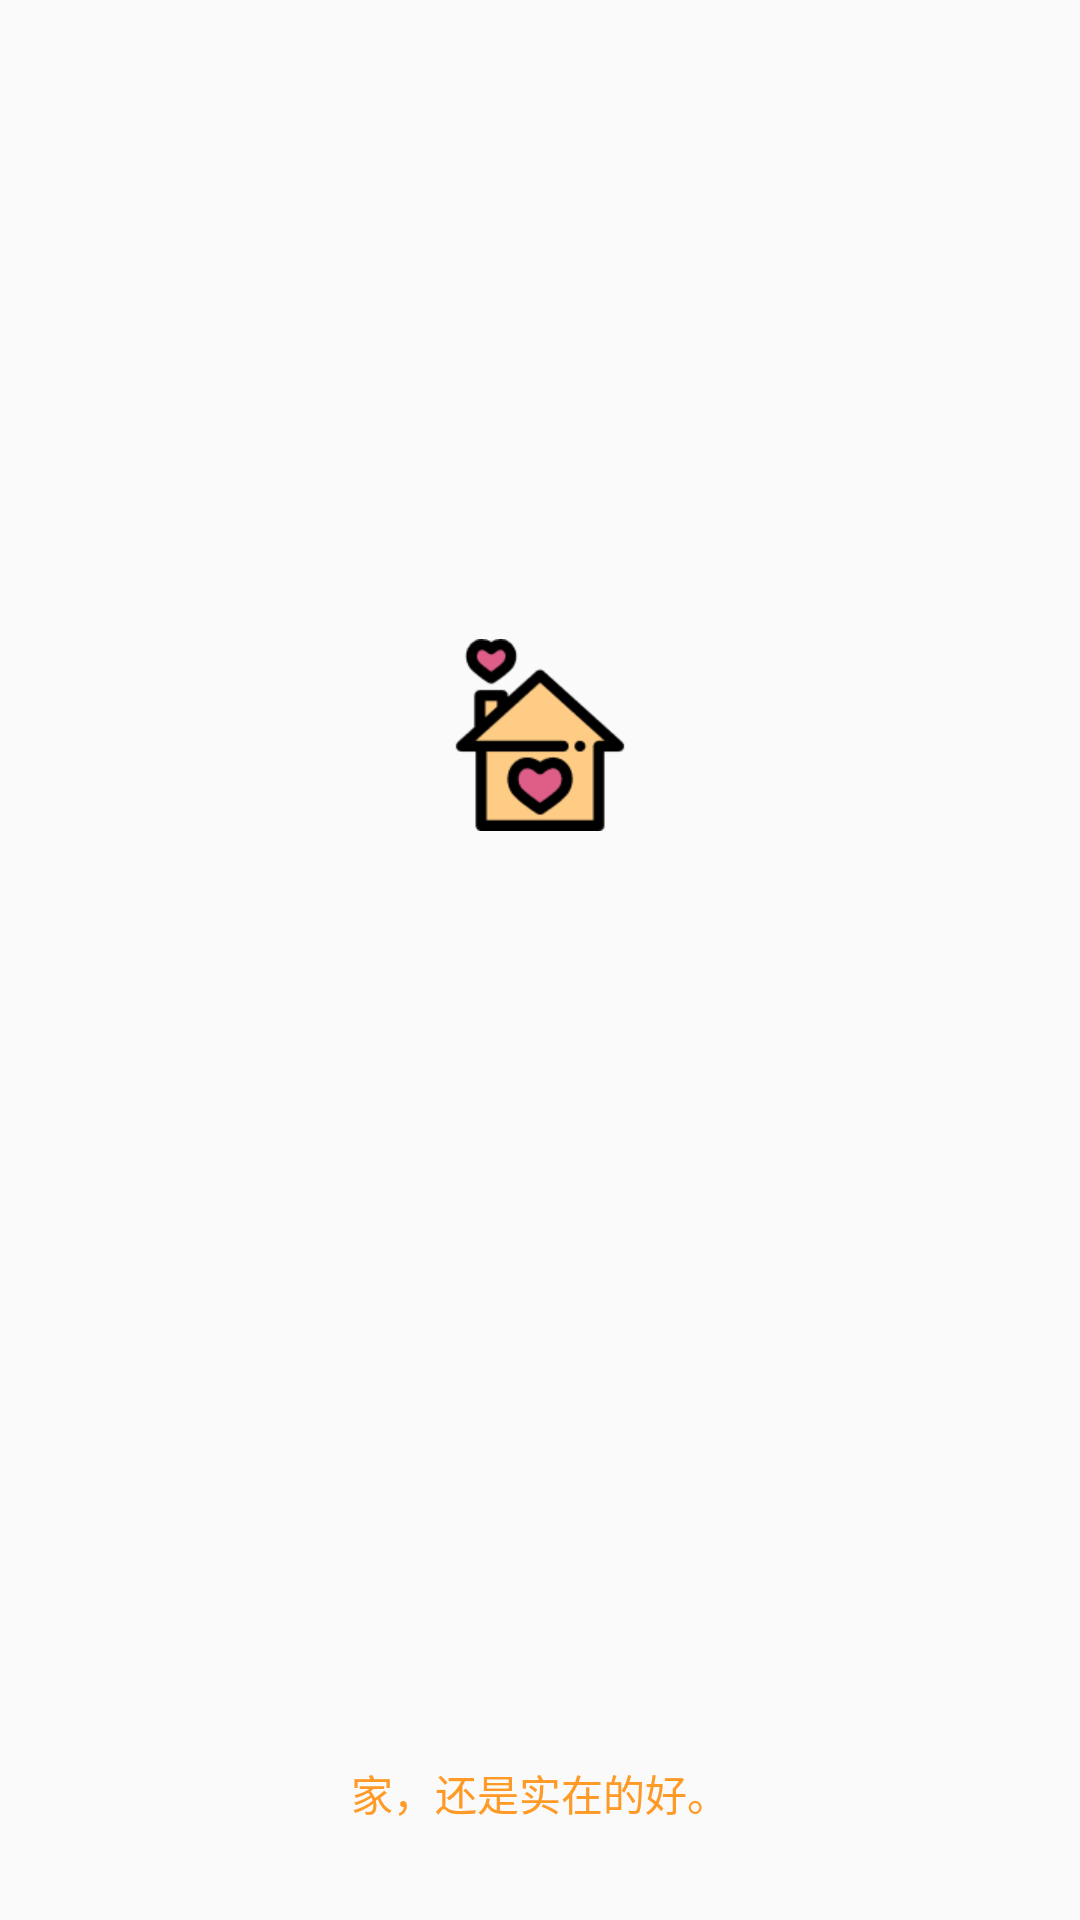

Icons on this 1080px x 1920px Android screen, each with its box as (x1, y1, x2, y2):
home: (455, 639, 625, 831)
